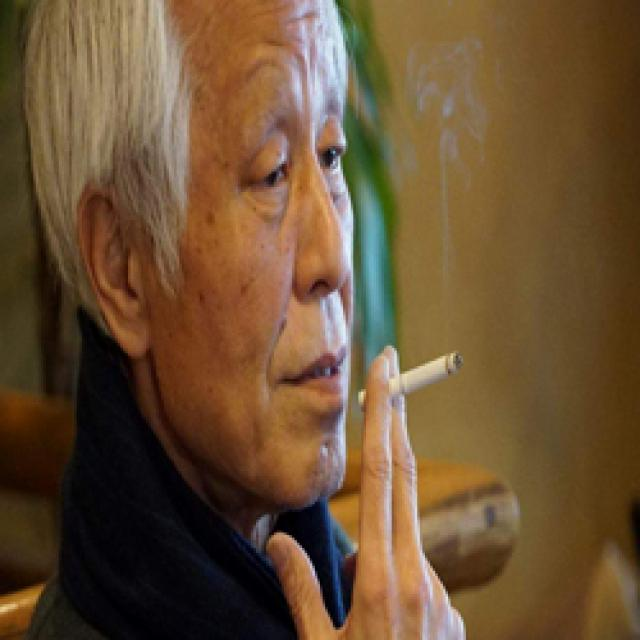Smooking: (344, 336, 468, 417)
